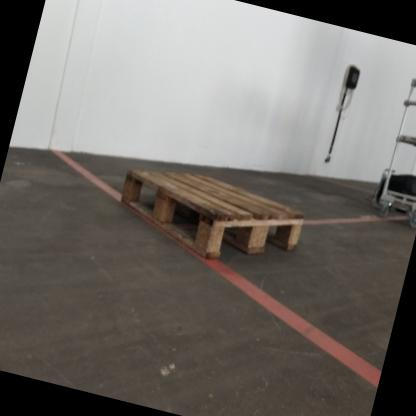BoxFace: (118, 164, 307, 266)
